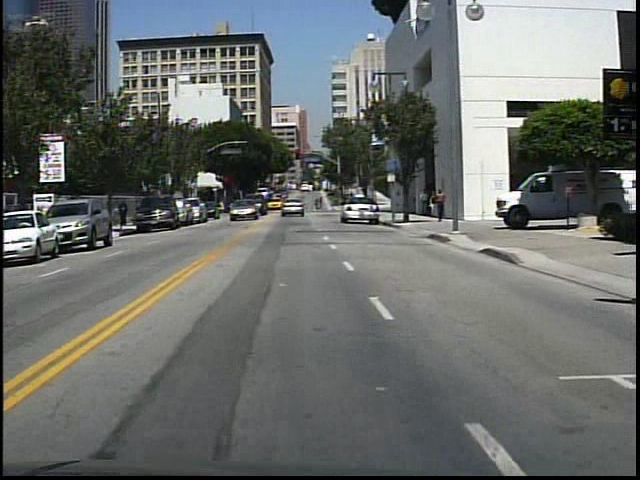person: (433, 188, 446, 222), (117, 198, 131, 228), (418, 186, 431, 218), (216, 197, 230, 219), (429, 189, 438, 219)
